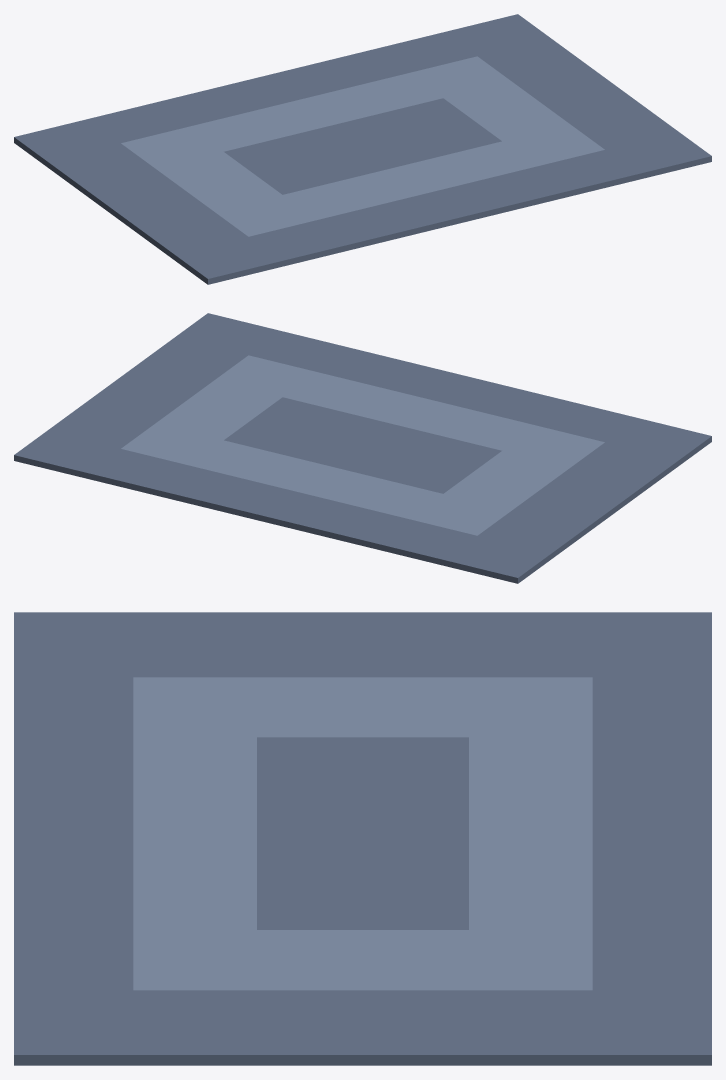
Rendered from Carpet2_C1.fbx.
3 views of the same model, one above another, from view 1: azimuth 30°, elevation 25°; view 2: azimuth 150°, elevation 25°; view 3: azimuth 270°, elevation 25° (orthographic). The views are drawn at different scales.
Parts seen in each view (by area): view 1: Carpet2_C1; view 2: Carpet2_C1; view 3: Carpet2_C1.
Part boxes in pixels (bbox=[...]): Carpet2_C1: bbox=[14, 14, 711, 284]; Carpet2_C1: bbox=[14, 313, 711, 583]; Carpet2_C1: bbox=[14, 612, 711, 1065].
Bounding box in the file's own units: 90 × 1 × 60.
